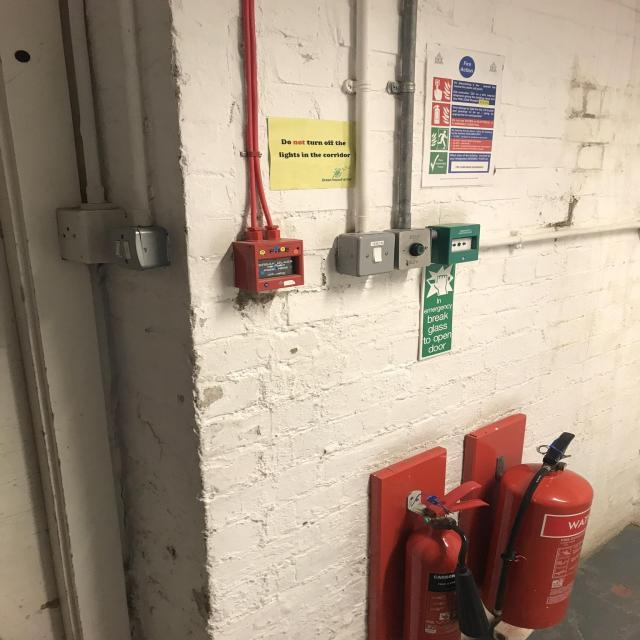fire_extinguisher: (476, 428, 598, 632), (387, 474, 498, 640)
